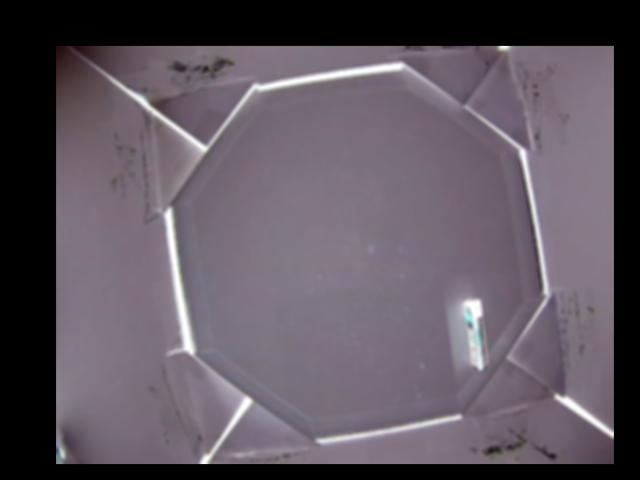Battery: (462, 298, 486, 373)
